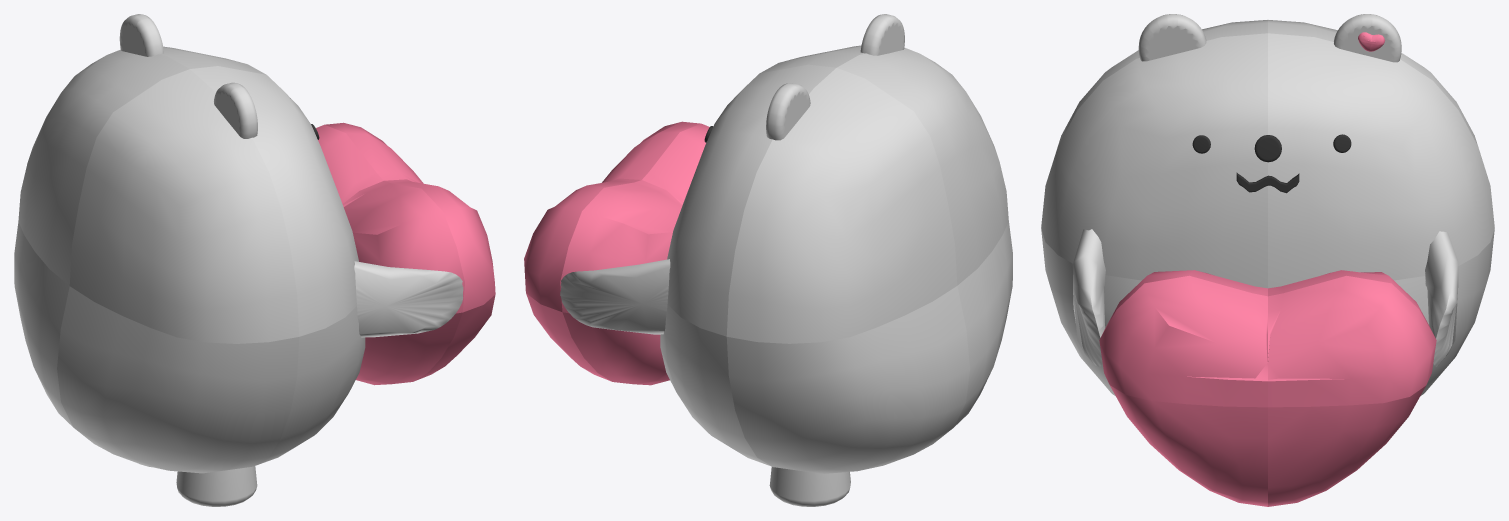
The picture shows the model from 3 angles, left to right: view 1: azimuth 30°, elevation 25°; view 2: azimuth 150°, elevation 25°; view 3: azimuth 270°, elevation 25°; orthographic projection. The views are drawn at different scales.
Parts seen in each view (by area): view 1: Bear, Heart; view 2: Bear, Heart; view 3: Bear, Heart.
Boxes of the visible parts, bbox=[...] form: Bear: bbox=[14, 14, 463, 506]; Heart: bbox=[316, 122, 495, 385]; Bear: bbox=[560, 14, 1012, 506]; Heart: bbox=[524, 121, 709, 385]; Bear: bbox=[1041, 14, 1494, 395]; Heart: bbox=[1099, 270, 1436, 506].
Size of the model in its own units: 5.21 by 5.32 by 5.
